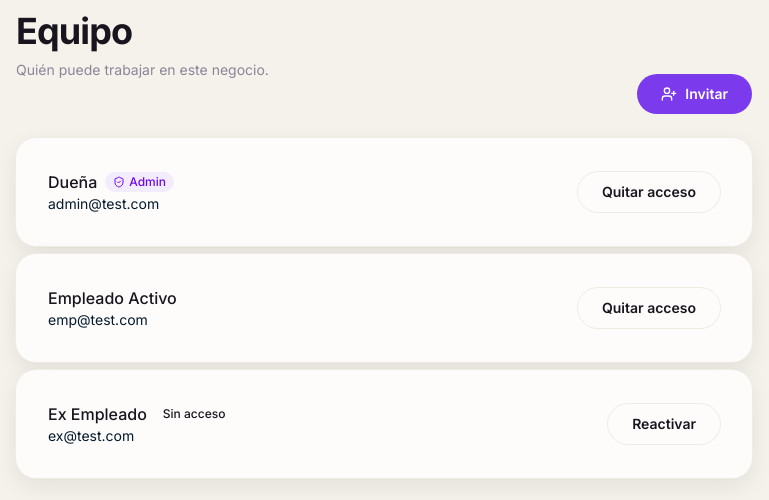
Test: EquipoPage — quitar y devolver acceso › reactivar refresca el listado
This screenshot has width=769, height=500.
Check: the text "Ex Empleado" is shown, box [48,404,147,424]
Click the button "Reactivar" at x=664, y=424, box [608,404,720,444]
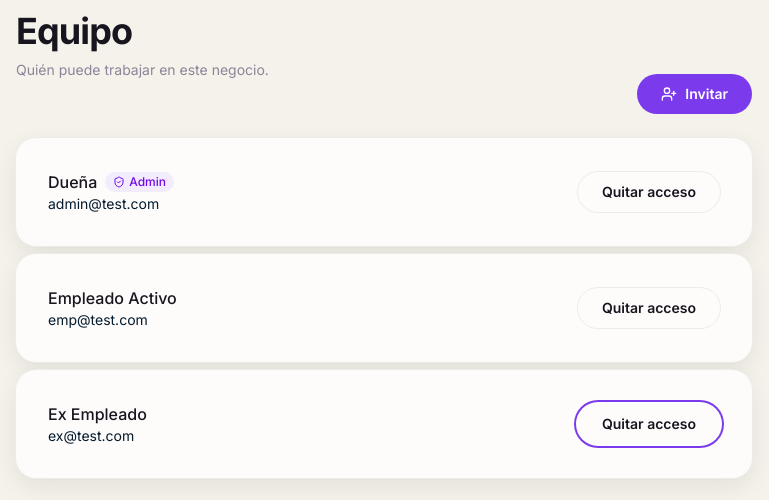
Check: the text "Sin acceso" is gone
